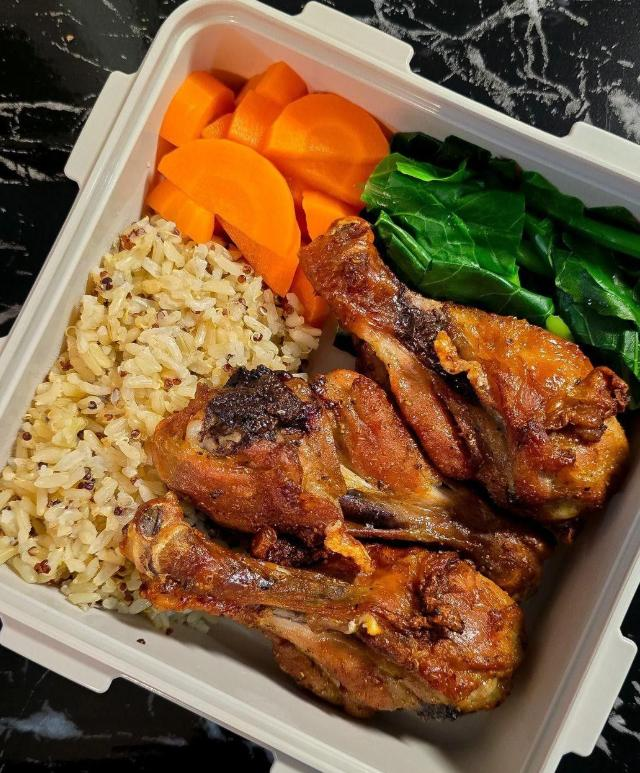buah_sayur_lainnya: (408, 186, 592, 279)
buah_sayur_vitA: (187, 95, 339, 216)
daging: (291, 322, 559, 616)
makanan_berpati: (92, 269, 228, 383)
